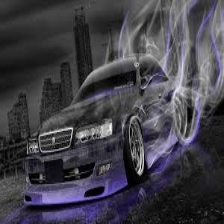smoke: (126, 7, 224, 122)
